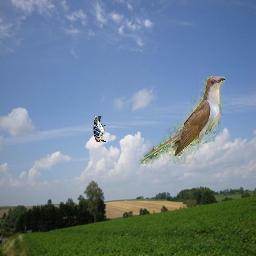Cuckoo: (137, 76, 225, 164)
Woodpecker: (92, 117, 106, 144)
